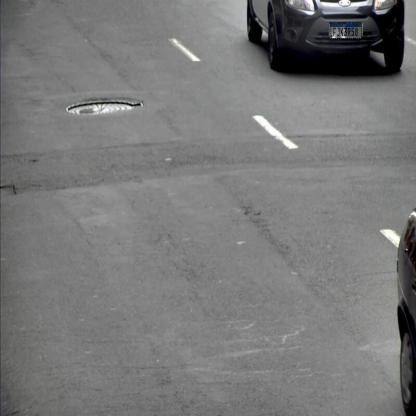PlacaM: (330, 22, 362, 39)
